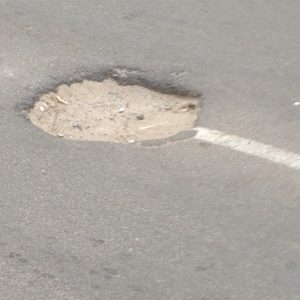pothole: (17, 50, 210, 152)
